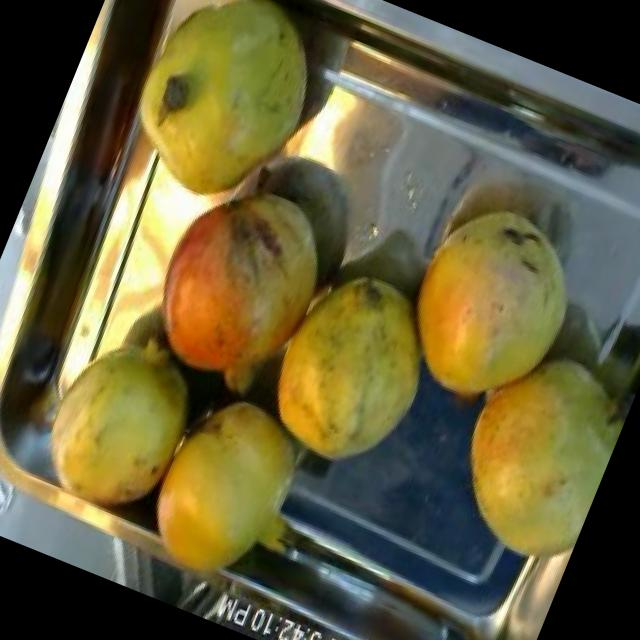fruit: (113, 138, 368, 424), (369, 167, 616, 441), (412, 320, 640, 590), (237, 236, 468, 502), (12, 298, 225, 536)
